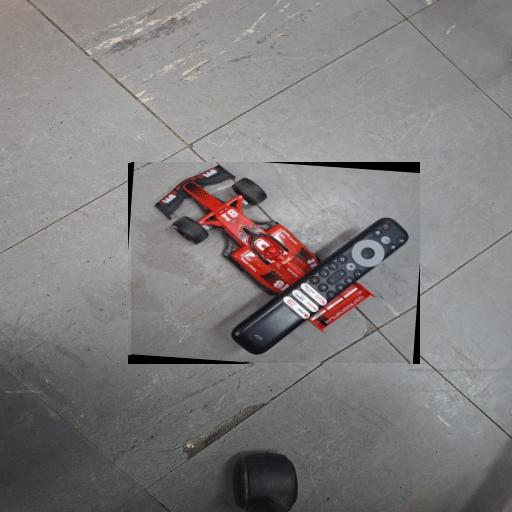carro: (131, 163, 420, 363)
